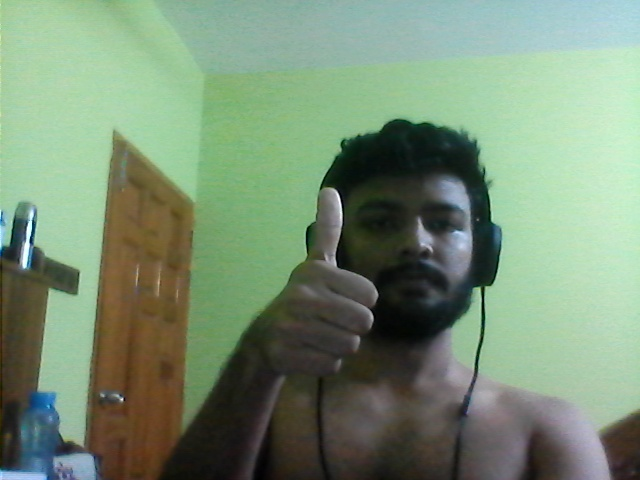Yes: (240, 186, 382, 395)
